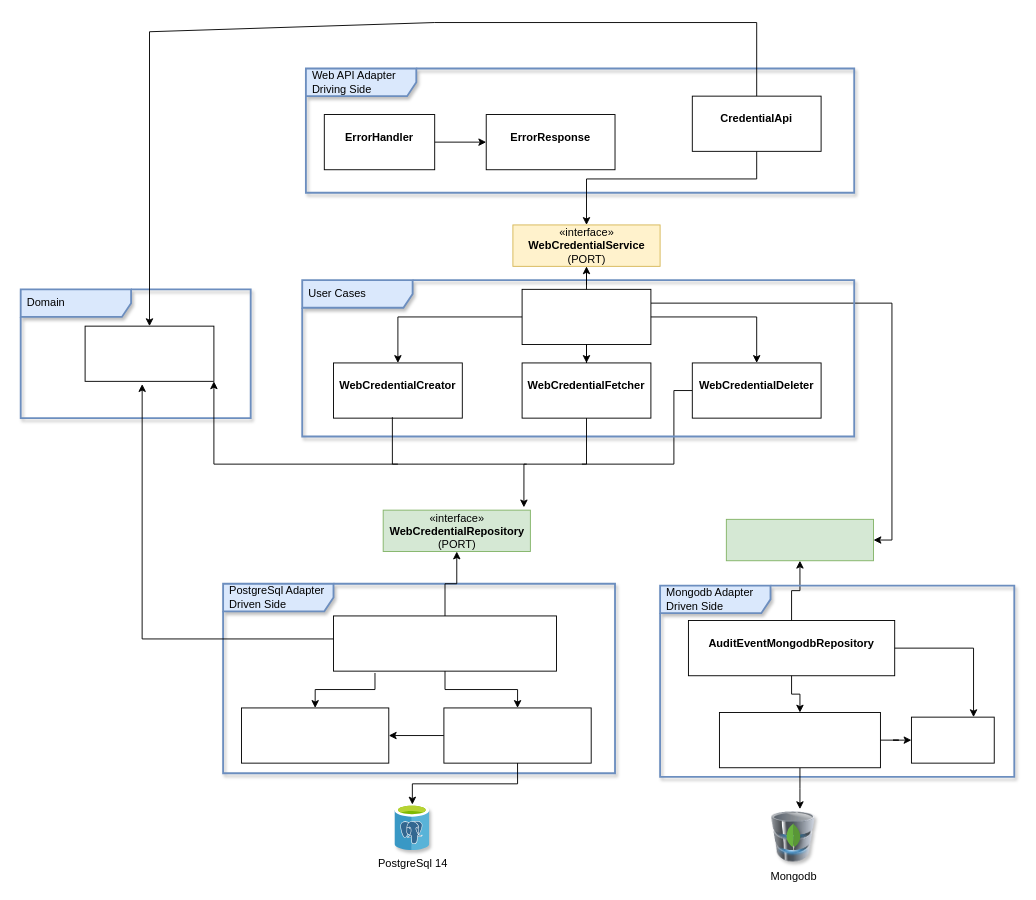
The diagram is 1036 pixels wide and 900 high, and some of its shapes have lost their labels. The centre of each missing label's shape, as x and y in pixels:
"AuditEventMongodbDao" belongs at (x=799, y=740).
"Event" belongs at (x=952, y=739).
"WebCredential" belongs at (x=149, y=353).
"WebCredentialDao" belongs at (x=517, y=735).
"WebCredentialEntity" belongs at (x=315, y=735).
"WebCredentialImpl" belongs at (x=586, y=316).
"WebCredentialPostgreSqlRepository" belongs at (x=445, y=643).
"«interface» AuditEventRepository (PORT)" belongs at (x=799, y=539).
